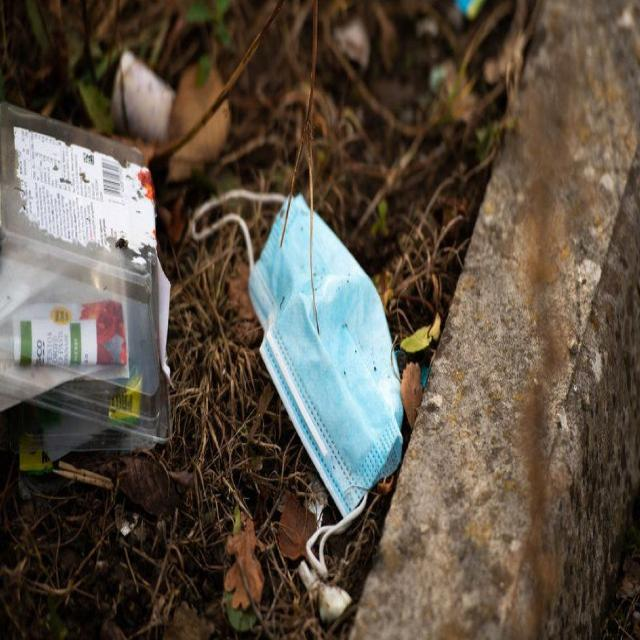non-organic waste: (193, 175, 421, 564)
